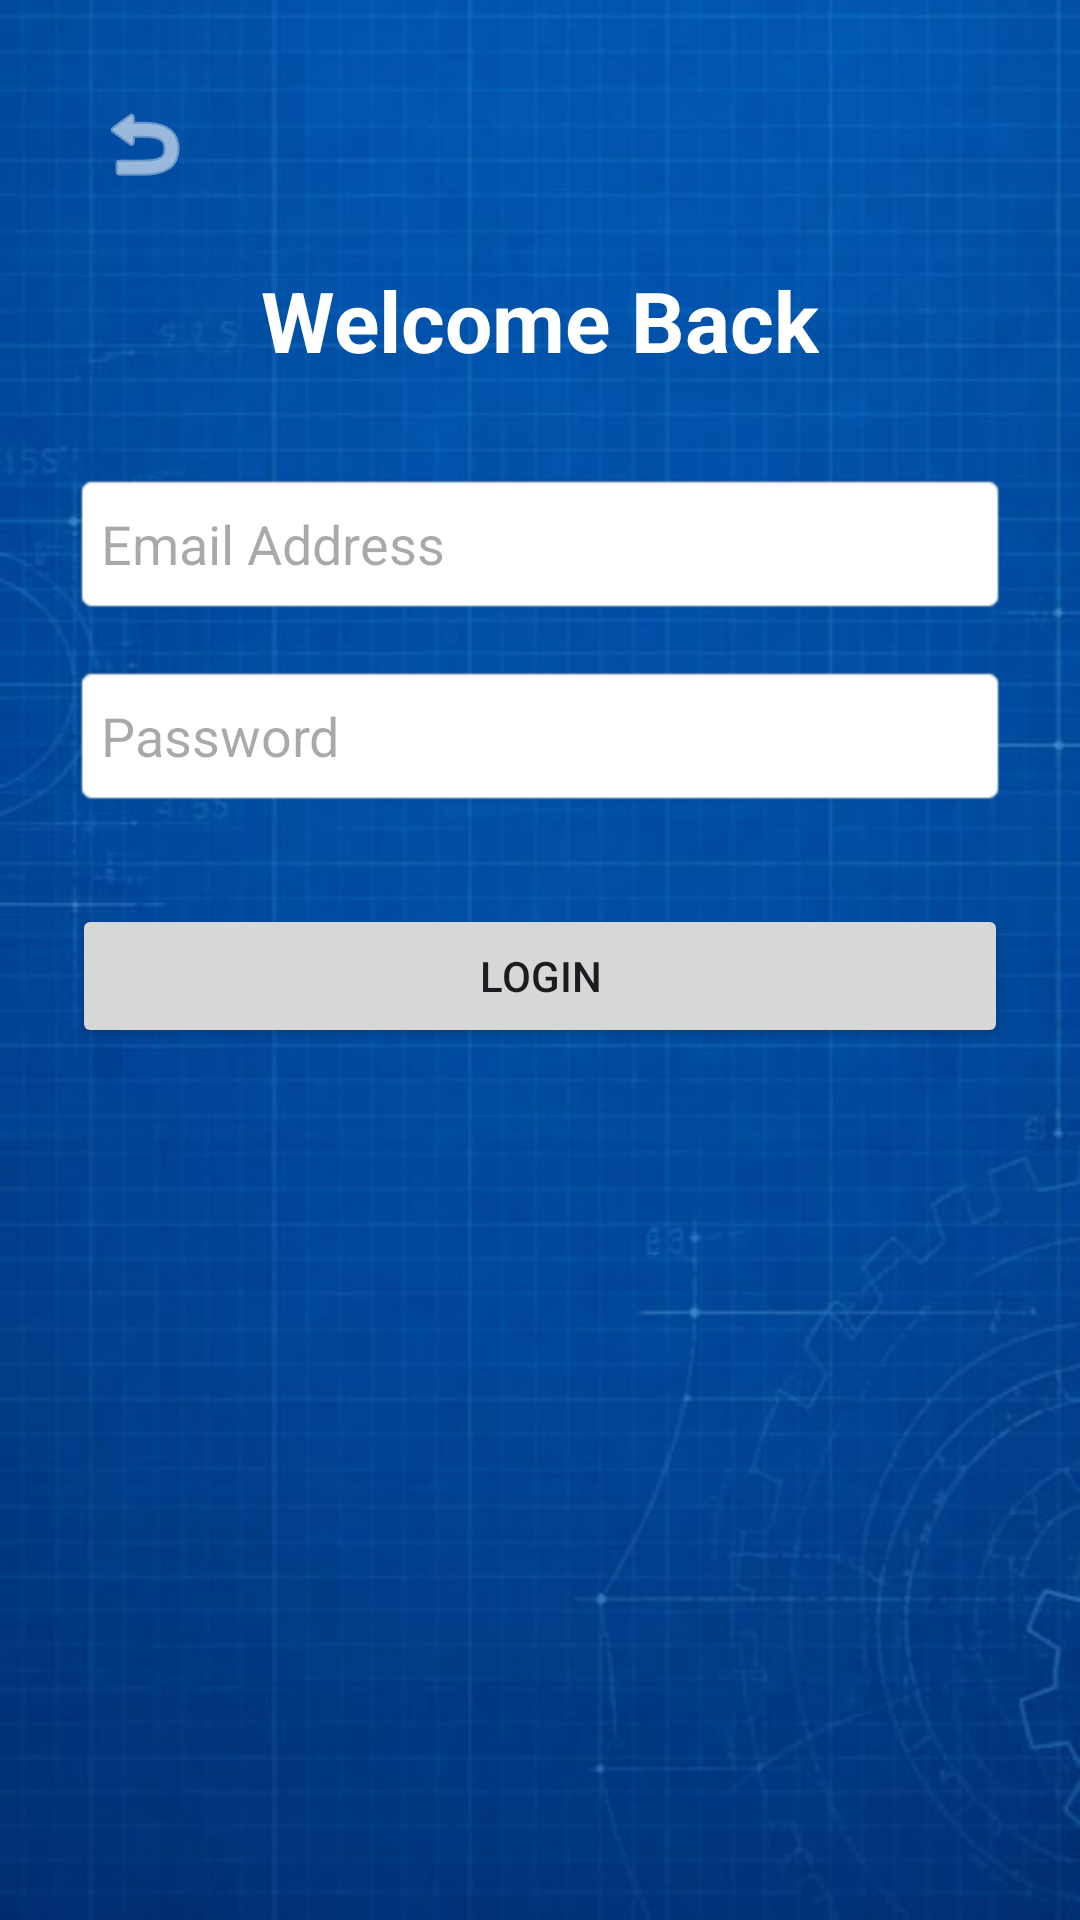

Icon click points for this 1080px x 1920px phone screenshot, format (x,y):
Go Back: (145,144)
